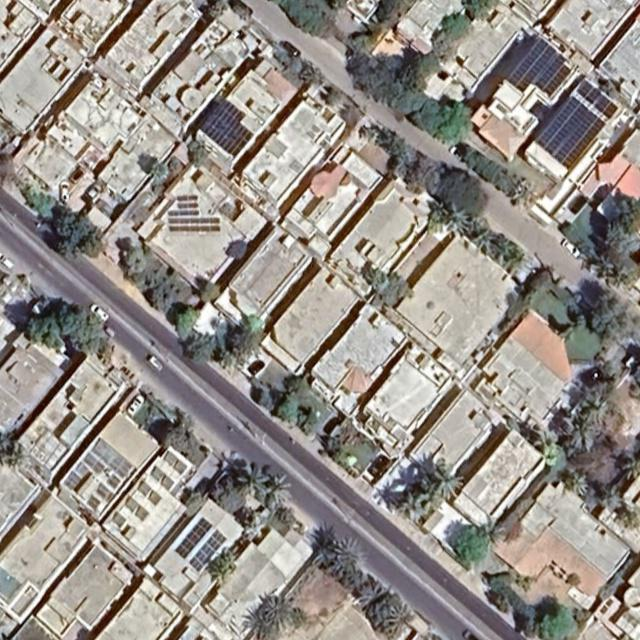solar panel: (534, 97, 607, 169), (508, 37, 572, 97), (200, 98, 254, 158), (168, 195, 220, 233), (189, 529, 228, 572), (174, 516, 212, 560), (92, 438, 133, 478), (577, 81, 617, 120), (165, 449, 188, 475), (84, 453, 104, 474), (65, 472, 81, 489), (98, 484, 112, 500), (137, 482, 152, 496), (135, 506, 149, 521), (113, 512, 127, 527), (152, 466, 165, 481), (162, 476, 175, 491), (88, 495, 100, 511), (126, 497, 138, 512), (108, 475, 121, 488), (149, 491, 161, 505), (77, 464, 89, 477)
